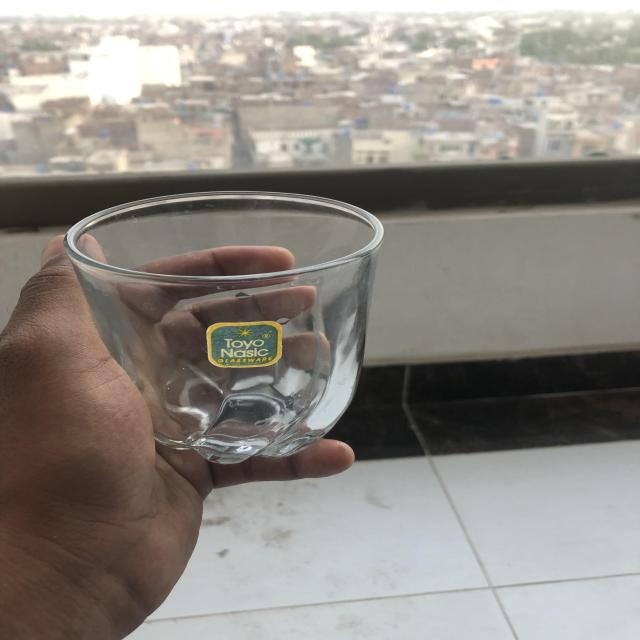glass-normal: (64, 190, 386, 466)
